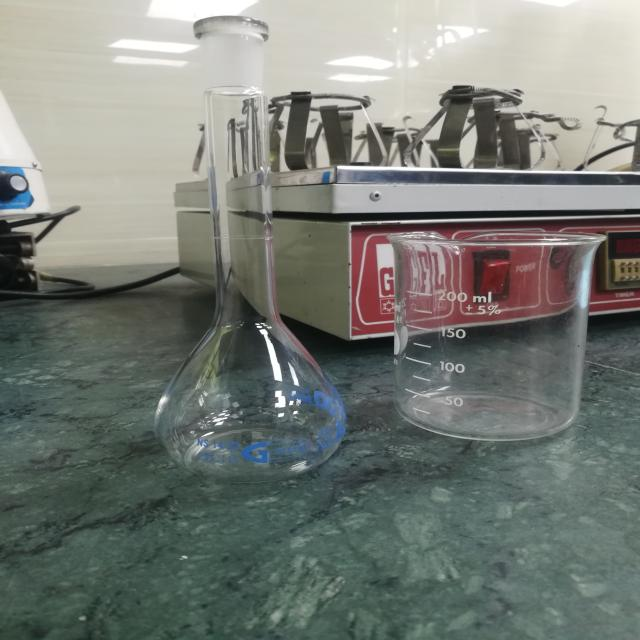Beaker: (368, 189, 616, 447)
Volumetric_Flask: (143, 3, 360, 492)
